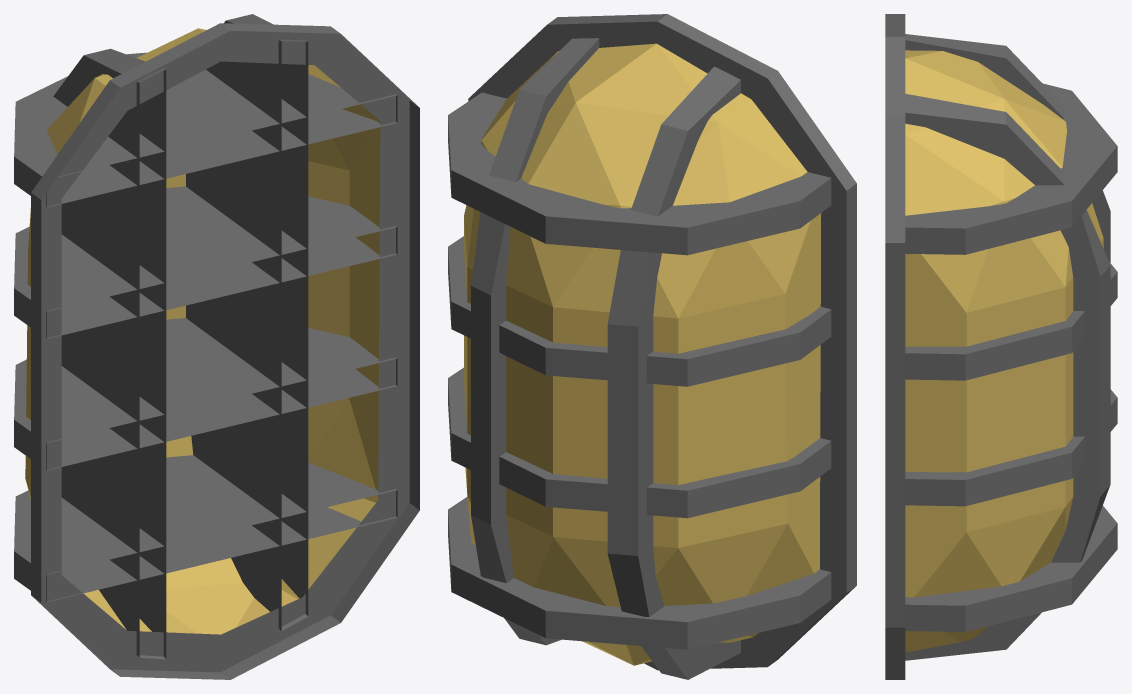
Rendered from bw-wall-lamp.lod0.glb.
3 renders of one model, left to right at view 1: azimuth 30°, elevation 25°; view 2: azimuth 150°, elevation 25°; view 3: azimuth 270°, elevation 25°, orthographic. The views are drawn at different scales.
Parts seen in each view (by area): view 1: WallLightMetalCage_Metal_0; view 2: WallLightMetalCage_Metal_0; view 3: WallLightMetalCage_Metal_0.
Boxes of the visible parts, box(x1,y1,x2,y2) form: WallLightMetalCage_Metal_0: box(14, 14, 419, 679); WallLightMetalCage_Metal_0: box(448, 14, 856, 679); WallLightMetalCage_Metal_0: box(885, 14, 1117, 679).
Size of the model in its own units: 0.35 by 0.5737 by 0.1944.
